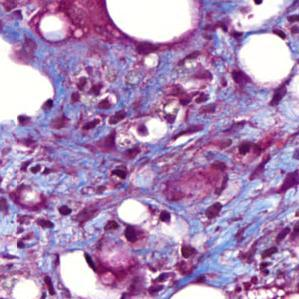steatosis: (238, 33, 294, 93)
